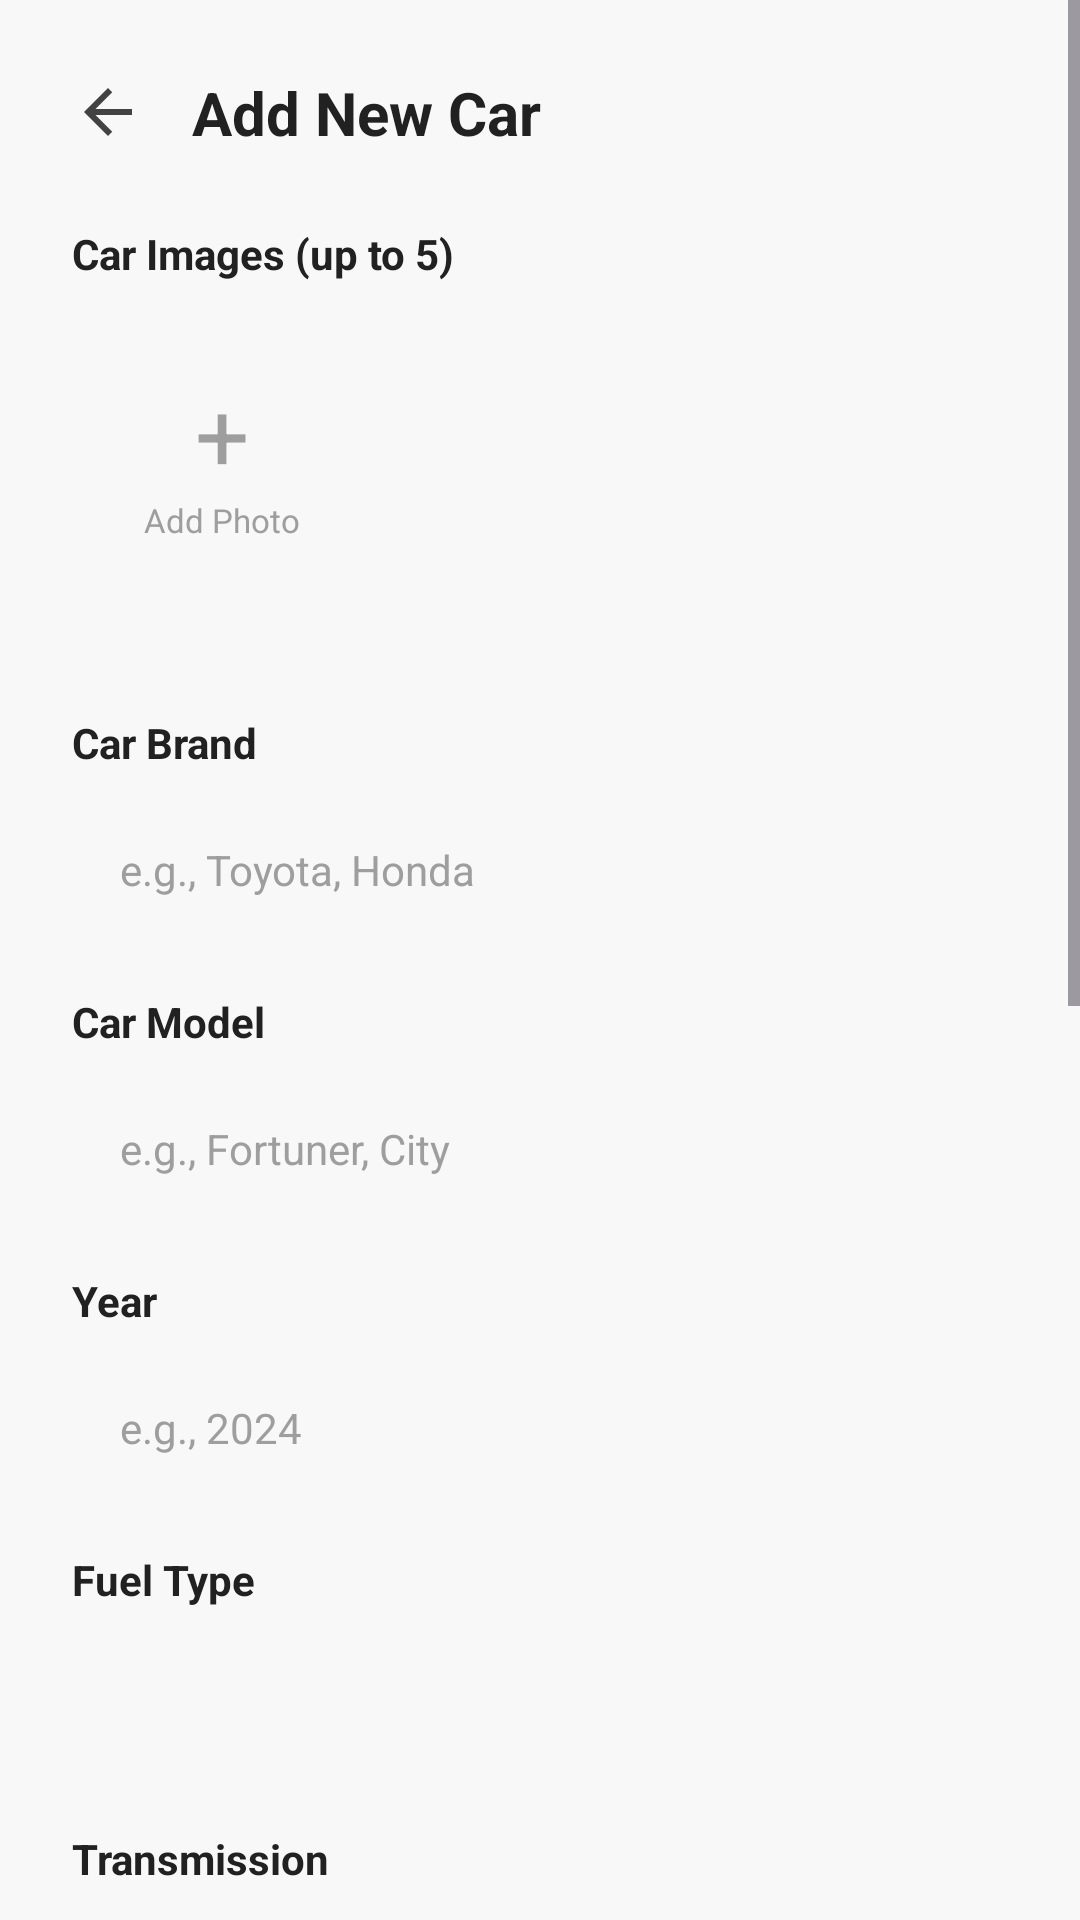

Icons on this 1080px×1920px Android screen, each with the point to tap as [x,y]:
Back: [108,112]
